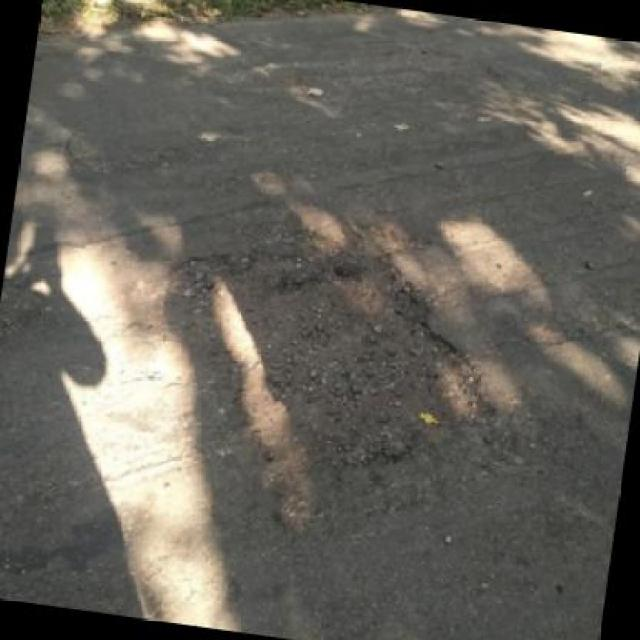pothole1: (137, 219, 520, 504)
